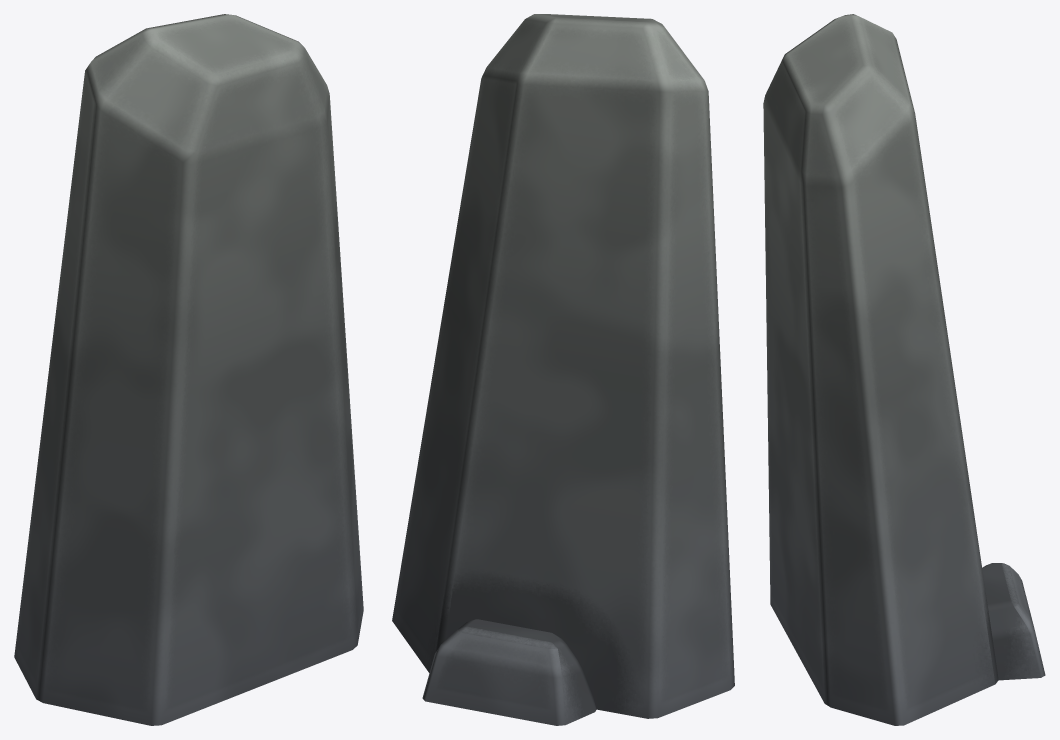
The model's file is standing_stone_1.glb.
3 renders of one model, left to right at view 1: azimuth 30°, elevation 25°; view 2: azimuth 150°, elevation 25°; view 3: azimuth 270°, elevation 25°, orthographic. The views are drawn at different scales.
Visible parts, largest first — view 1: standing_stone_1; view 2: standing_stone_1; view 3: standing_stone_1.
Part boxes in pixels (left/top/right/bottom): standing_stone_1: left=14, top=14, right=363, bottom=725; standing_stone_1: left=392, top=14, right=734, bottom=725; standing_stone_1: left=763, top=14, right=1045, bottom=725.
Size of the model in its own units: 1.4 by 2.6 by 1.1.
1 material, 1 textured.
